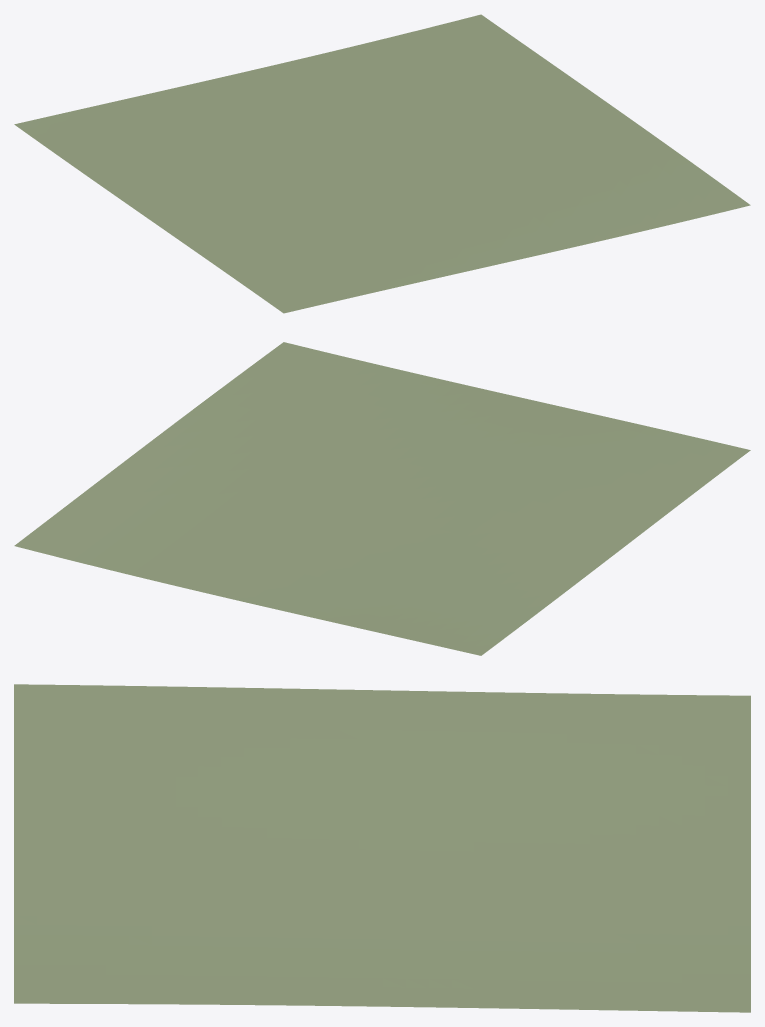
The model's file is expanse-4-19.glb.
The picture shows the model from 3 angles, top to bottom: view 1: azimuth 30°, elevation 25°; view 2: azimuth 150°, elevation 25°; view 3: azimuth 270°, elevation 25°; orthographic projection. The views are drawn at different scales.
Parts seen in each view (by area): view 1: expanse-4-19; view 2: expanse-4-19; view 3: expanse-4-19.
Boxes of the visible parts, <box> form: expanse-4-19: <box>14,14,750,313</box>; expanse-4-19: <box>14,342,750,655</box>; expanse-4-19: <box>14,684,750,1012</box>.
Size of the model in its own units: 256 by 6.84 by 256.
